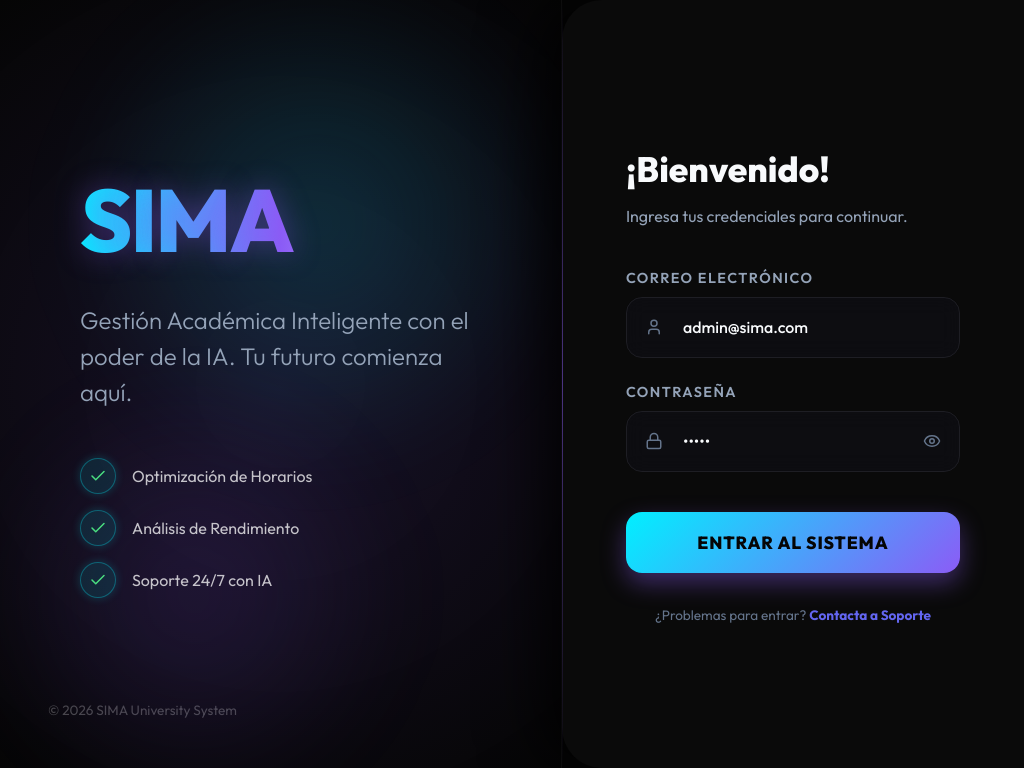
it: Portal de Login SIMA (Pruebas E2E - Cypress) › Debería mostrar error al ingresar credenciales inválidas
Replace the text in the field with placeholder "ejemplo@sima.edu" with "invalido@sima.com" at (793, 327), box 626,297 -> 960,357
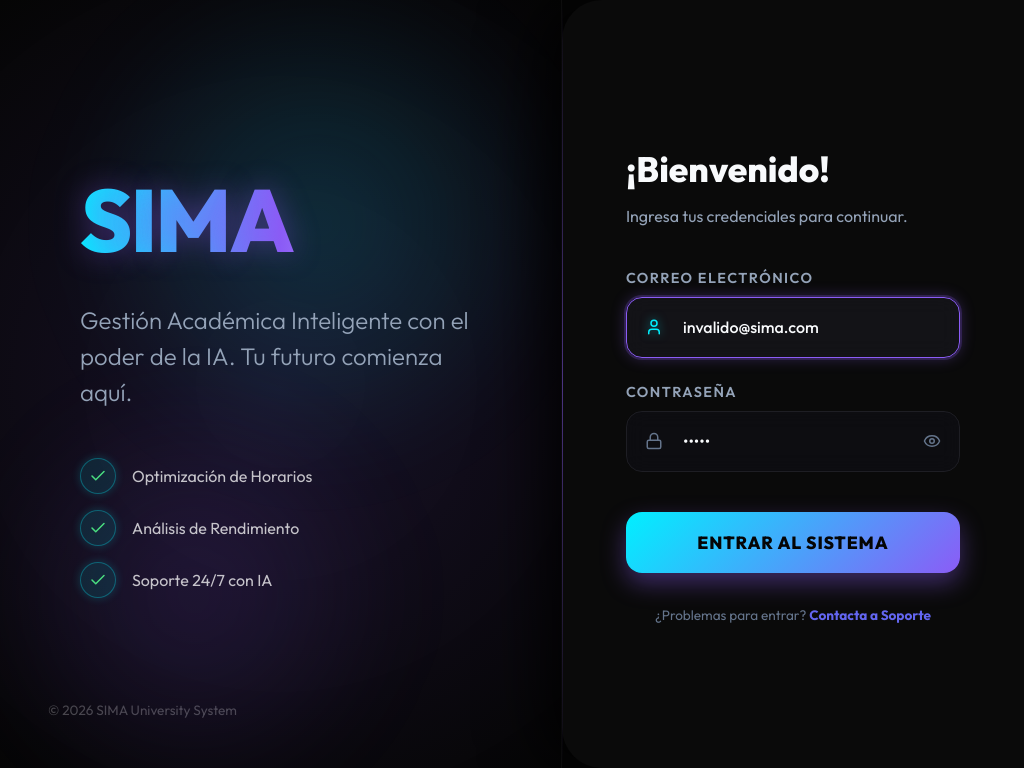
Type "badpass" into the password field with placeholder "••••••••" at (793, 441), box 626,411 -> 960,471
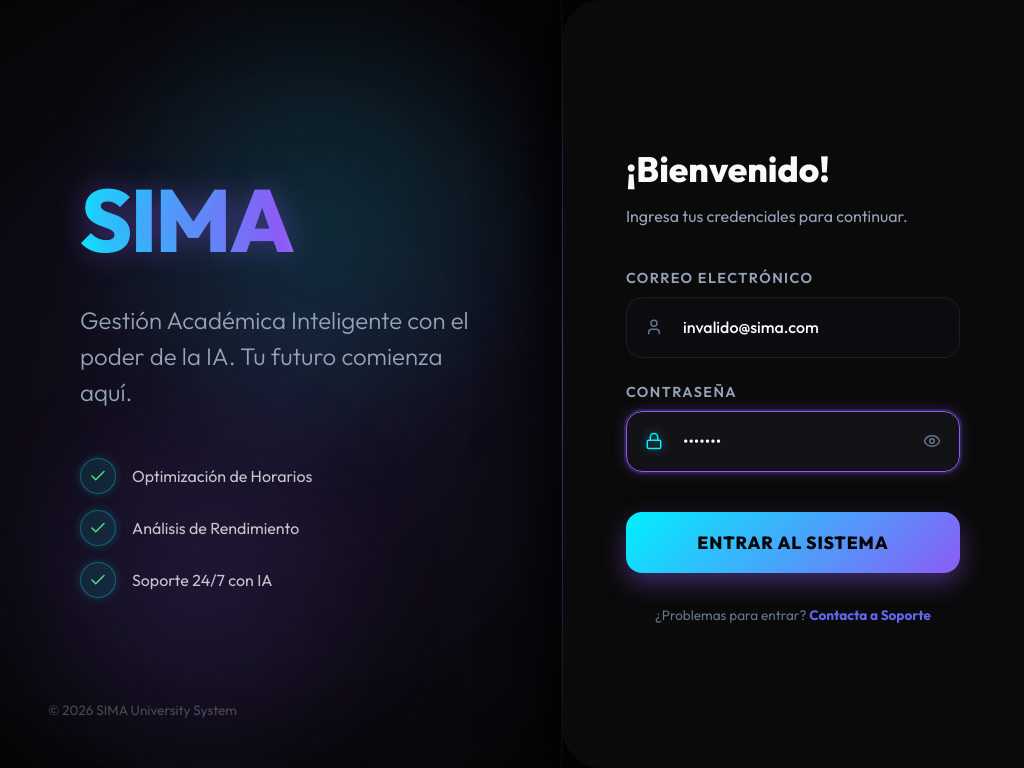
Click the submit button at (793, 543), box 626,512 -> 960,573
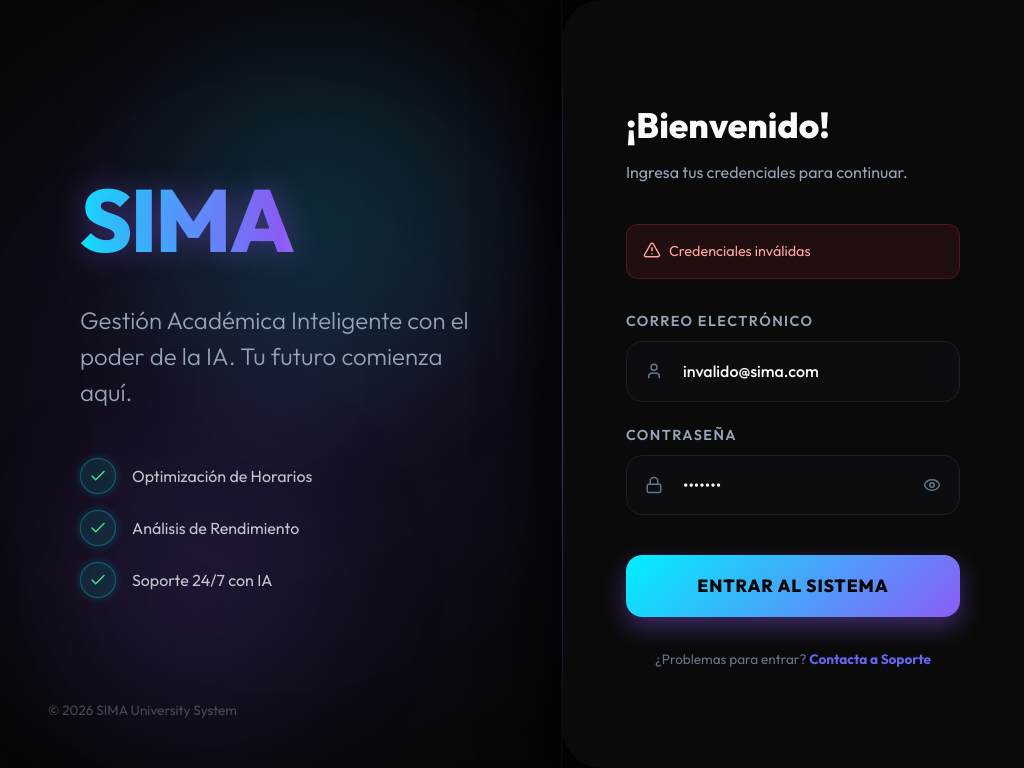
expect the element with class "alert-custom" reads "Credenciales inválidas": met, box 626,224 -> 960,280
